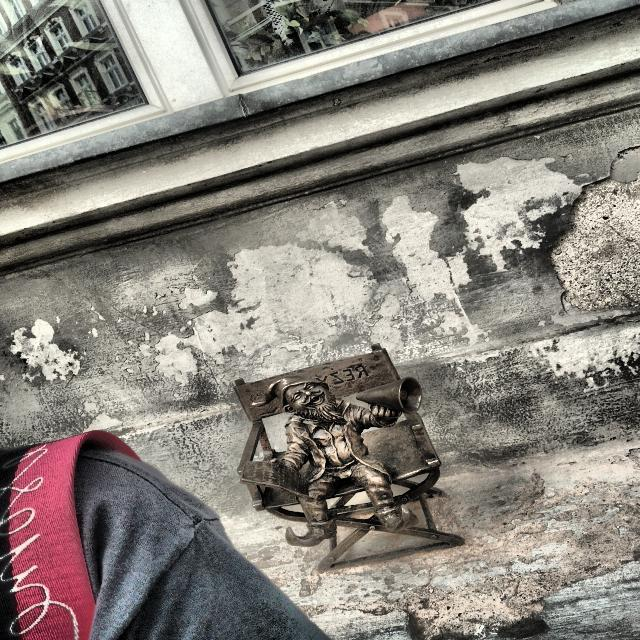Rezyser: (235, 345, 463, 570)
